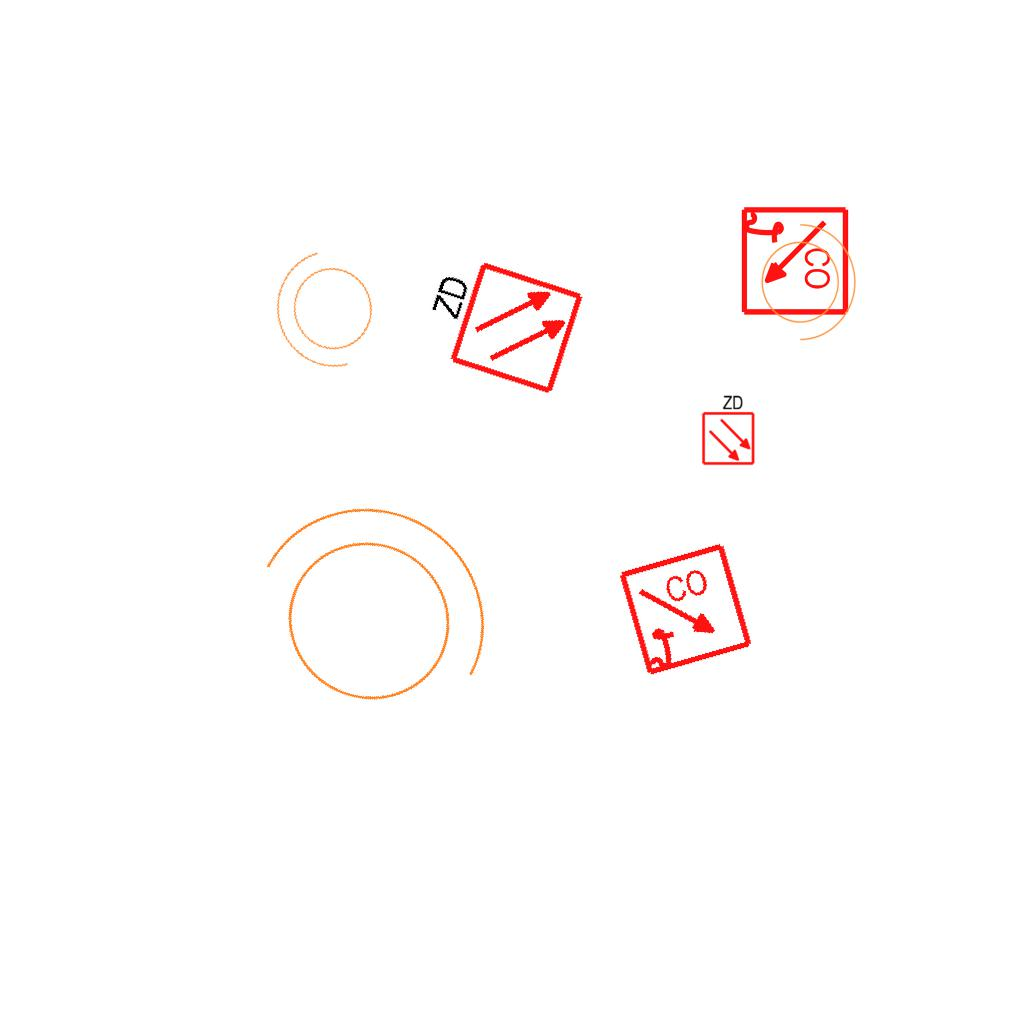ROA_Rauchmelder_optisch_mit_Signalgeber_(Sockelsirene): (616, 540, 757, 681), (737, 205, 850, 318)
Scheinwerfer_fuer_Alarmbeleuchtung: (198, 448, 538, 771), (257, 234, 401, 392), (749, 213, 861, 345)
ZD_Melder_in_Zwischendecke_mit_Revisionsoeffnung_mind_40_x_40_cm: (409, 246, 587, 401), (699, 392, 756, 466)
